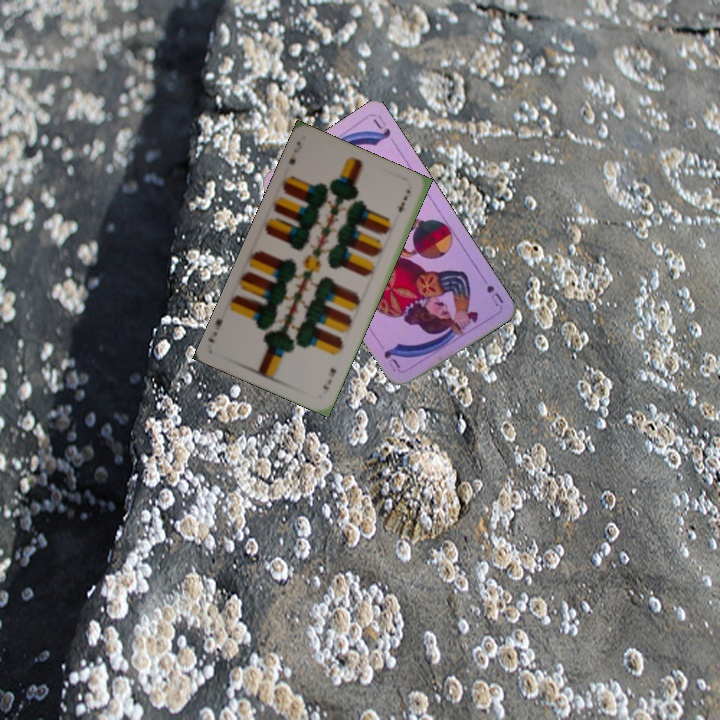E7: (285, 137, 304, 168), (318, 364, 338, 393)
SU: (482, 281, 506, 309)
